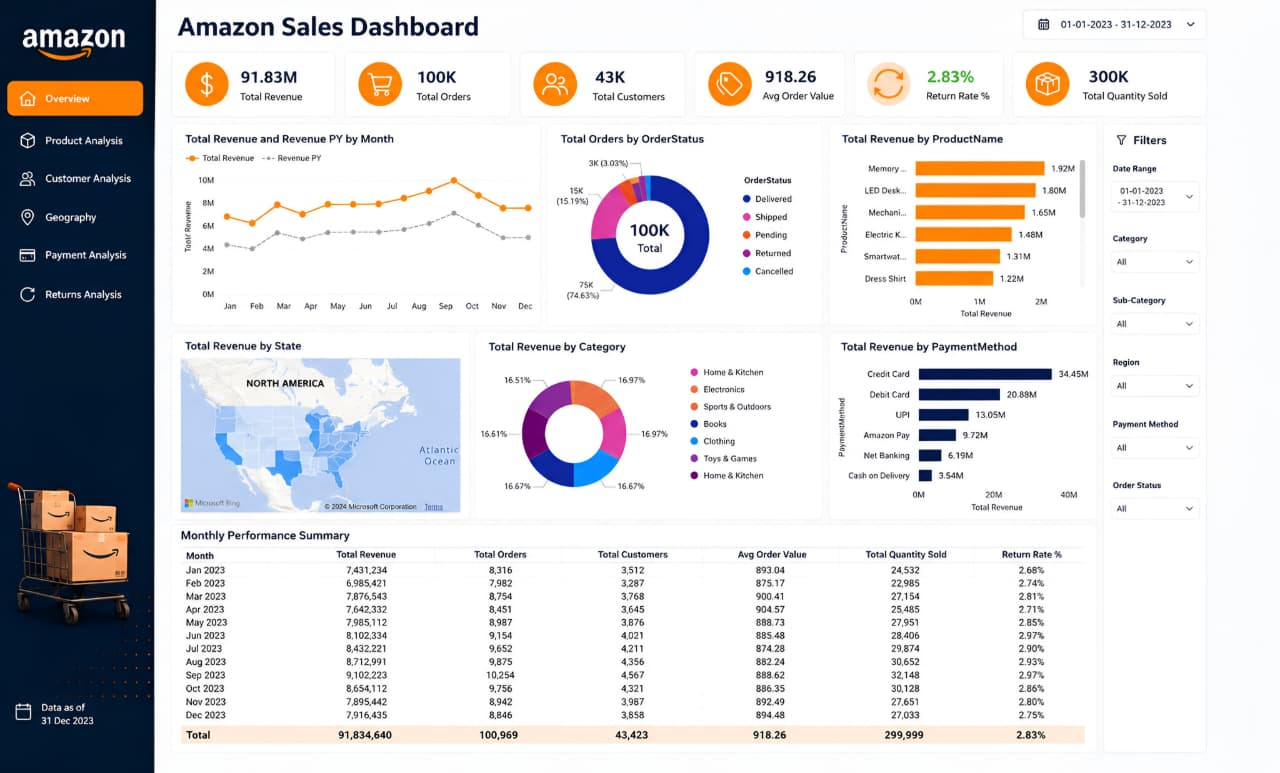

The dashboard page shown, as its layout file describes it:
{"tool":"powerbi","page":{"name":"Page 1","canvas":[1280,720],"ordinal":0},"visuals":[{"type":"cardVisual","fields":{"Data":["Amazon.Total Revenue"]},"box":[18.6,97.1,190,114.3],"z":0},{"type":"cardVisual","fields":{"Data":["Amazon.Total Orders"]},"box":[220,97.1,177.1,114.3],"z":1000},{"type":"cardVisual","fields":{"Data":["Amazon.Total Customers"]},"box":[417.1,98.6,185.7,112.9],"z":2000},{"type":"cardVisual","title":"Total Quantity Sold","fields":{"Data":["Amazon.Total Quantity"]},"box":[1044.3,101.4,205.7,111.4],"z":3000},{"type":"cardVisual","fields":{"Data":["Amazon.Return Rate %"]},"box":[832.9,101.4,198.6,110],"z":4000},{"type":"cardVisual","fields":{"Data":["Amazon.Avg Order Value"]},"box":[617.1,100,191.4,111.4],"z":5000},{"type":"lineChart","fields":{"Y":["Amazon.Total Revenue","Amazon.Revenue PY"],"Category":["DateTable.Date.Variation.Date Hierarchy.Month"]},"box":[18.6,228.6,378.6,217.1],"z":6000},{"type":"donutChart","fields":{"Category":["Amazon.Category"],"Y":["Amazon.Total Revenue"]},"box":[417.1,460,391.4,260],"z":7000},{"type":"barChart","fields":{"Y":["Amazon.Total Revenue"],"Category":["Amazon.ProductName"]},"box":[832.9,228.6,417.1,217.1],"z":8000},{"type":"pieChart","fields":{"Category":["Amazon.OrderStatus"],"Y":["Amazon.Total Orders"]},"box":[417.1,228.6,391.4,217.1],"z":9000},{"type":"clusteredBarChart","fields":{"Category":["Amazon.PaymentMethod"],"Y":["Amazon.Total Revenue"]},"box":[832.9,460,417.1,260],"z":10000},{"type":"filledMap","fields":{"Category":["Amazon.State"]},"box":[18.6,460,378.6,260],"z":11000},{"type":"shape","box":[0,0,1279.8,85.9],"z":12000},{"type":"textbox","box":[28.6,20,640.5,66.3],"z":13000},{"type":"slicer","fields":{"Values":["Amazon.State"]},"box":[875.5,15.5,110.4,55.2],"z":14000},{"type":"slicer","fields":{"Values":["Amazon.Category"]},"box":[1000,15.5,110.4,55.2],"z":15000},{"type":"slicer","fields":{"Values":["Amazon.Brand"]},"box":[1123.6,15.5,110.4,55.2],"z":16000}]}

Visuals, with their boxes on the page's 1280x720 design canvas (x1, y1, x2, y2). These are canvas units, not pixel positions in the 1280x773 screenshot, which may show the page scaled, cropped or inside an application window:
cardVisual - Amazon.Total Revenue: detection(19, 97, 209, 211)
cardVisual - Amazon.Total Orders: detection(220, 97, 397, 211)
cardVisual - Amazon.Total Customers: detection(417, 99, 603, 212)
"Total Quantity Sold" cardVisual: detection(1044, 101, 1250, 213)
cardVisual - Amazon.Return Rate %: detection(833, 101, 1032, 211)
cardVisual - Amazon.Avg Order Value: detection(617, 100, 808, 211)
lineChart - Amazon.Total Revenue x Amazon.Revenue PY: detection(19, 229, 397, 446)
donutChart - Amazon.Category x Amazon.Total Revenue: detection(417, 460, 808, 720)
barChart - Amazon.Total Revenue x Amazon.ProductName: detection(833, 229, 1250, 446)
pieChart - Amazon.OrderStatus x Amazon.Total Orders: detection(417, 229, 808, 446)
clusteredBarChart - Amazon.PaymentMethod x Amazon.Total Revenue: detection(833, 460, 1250, 720)
filledMap - Amazon.State: detection(19, 460, 397, 720)
shape: detection(0, 0, 1280, 86)
textbox: detection(29, 20, 669, 86)
slicer - Amazon.State: detection(876, 16, 986, 71)
slicer - Amazon.Category: detection(1000, 16, 1110, 71)
slicer - Amazon.Brand: detection(1124, 16, 1234, 71)
